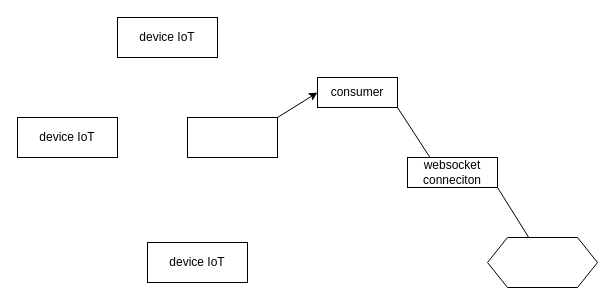
Some shapes in this 615 by 305 pixel diagram are drawn without their labels. The centre of each missing label's shape, as x and y in pixels:
"mqtt broker" goes at point 232,137.
"UI of Template" goes at point 542,262.
